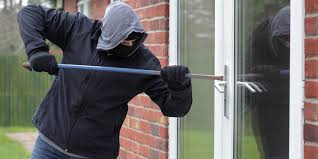crowbar: (20, 59, 226, 85), (236, 63, 289, 81)
